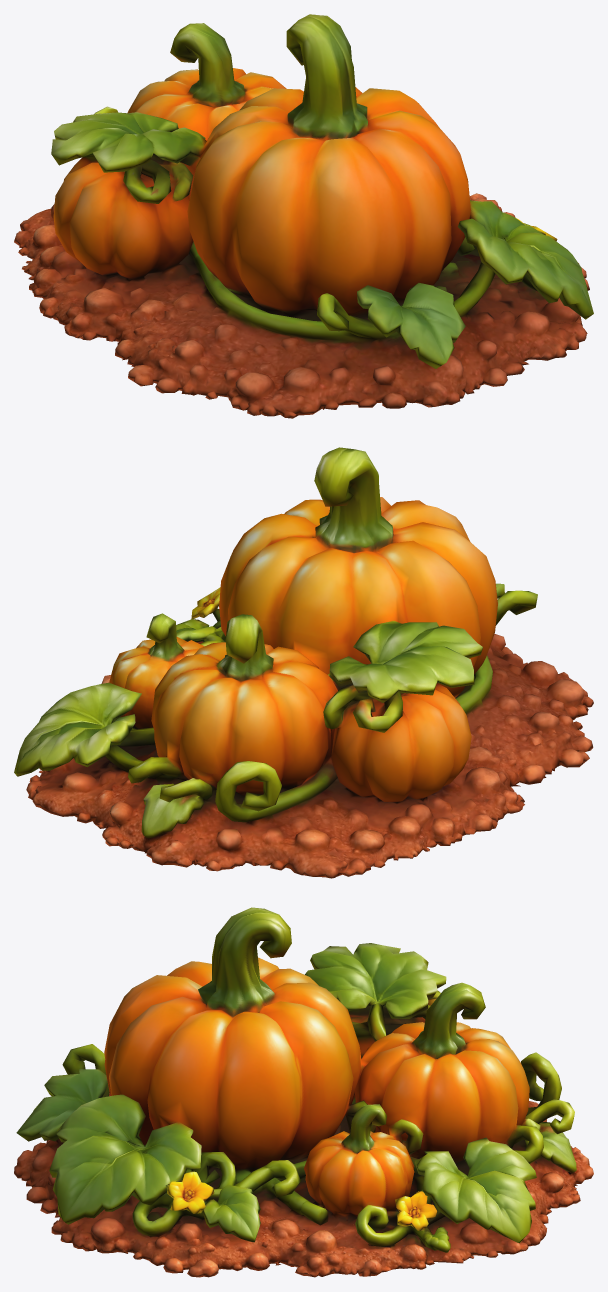
File: Kit_P_PumpkinCluster_HD_src.glb
3 views of the same model, one above another, from view 1: azimuth 30°, elevation 25°; view 2: azimuth 150°, elevation 25°; view 3: azimuth 270°, elevation 25° (orthographic). The views are drawn at different scales.
Visible parts, largest first — view 1: tripo_node_752609e0-df1c-4037-b040-8e9fec480ec0; view 2: tripo_node_752609e0-df1c-4037-b040-8e9fec480ec0; view 3: tripo_node_752609e0-df1c-4037-b040-8e9fec480ec0.
Part boxes in pixels (x1=…): tripo_node_752609e0-df1c-4037-b040-8e9fec480ec0: x1=14, y1=14, x2=593, y2=418; tripo_node_752609e0-df1c-4037-b040-8e9fec480ec0: x1=14, y1=447, x2=593, y2=878; tripo_node_752609e0-df1c-4037-b040-8e9fec480ec0: x1=14, y1=907, x2=593, y2=1277.
Size of the model in its own units: 0.8018 by 0.4903 by 0.98.
Materials: 1 (1 with a texture image).
